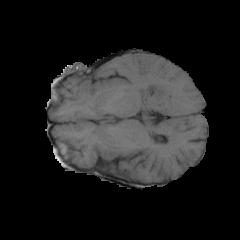glioma: (138, 83, 166, 107)
